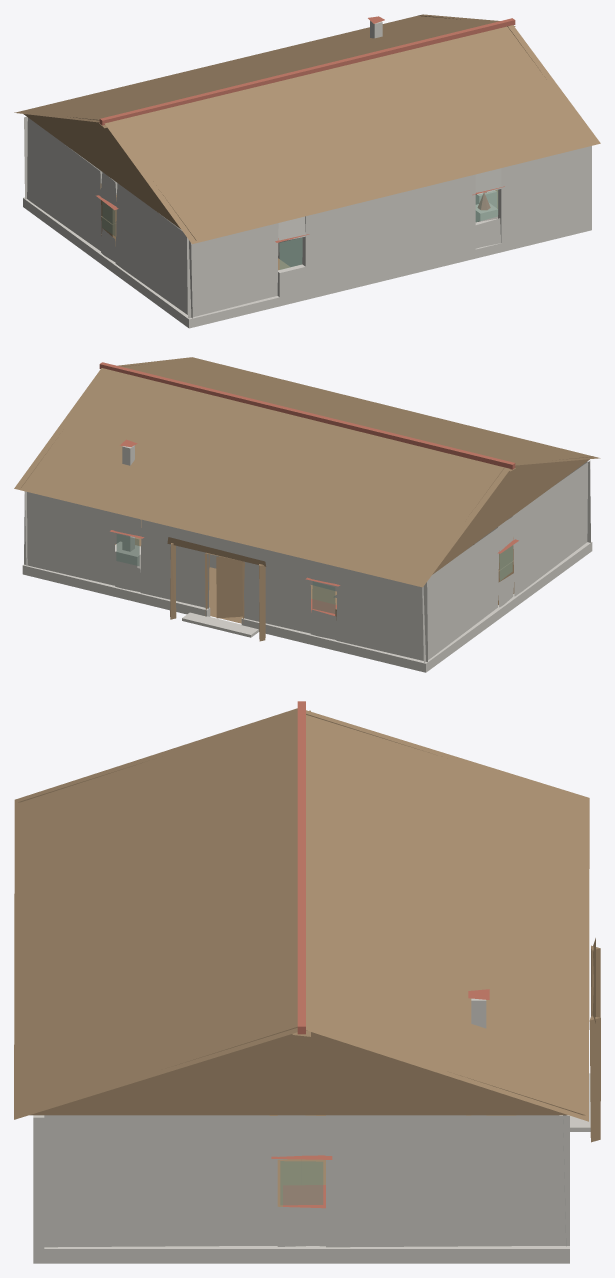
Rendered from hy4_mansion_baja_reexport_20261107.glb.
The picture shows the model from 3 angles, top to bottom: view 1: azimuth 30°, elevation 25°; view 2: azimuth 150°, elevation 25°; view 3: azimuth 270°, elevation 25°; orthographic projection. The views are drawn at different scales.
Visible parts, largest first — view 1: SM_Mansion_M_Mansion_Madera, SM_Mansion_M_Mansion_Piedra, SM_Mansion_M_Mansion_Acento, SM_Mansion_Zocalo_NOFUNDIR, SM_Mansion_M_Mansion_Jade, SM_Mansion_Pedestal_NOFUNDIR; view 2: SM_Mansion_M_Mansion_Madera, SM_Mansion_M_Mansion_Piedra, SM_Mansion_Zocalo_NOFUNDIR, SM_Mansion_M_Mansion_Acento, SM_Mansion_Pedestal_NOFUNDIR, SM_Mansion_M_Mansion_Jade; view 3: SM_Mansion_M_Mansion_Madera, SM_Mansion_M_Mansion_Piedra, SM_Mansion_Zocalo_NOFUNDIR, SM_Mansion_M_Mansion_Acento, SM_Mansion_M_Mansion_Jade, SM_Mansion_Pedestal_NOFUNDIR.
Boxes of the visible parts, x1,y1,x2,y2 form: SM_Mansion_M_Mansion_Madera: (14, 14, 600, 270); SM_Mansion_M_Mansion_Piedra: (24, 116, 591, 318); SM_Mansion_M_Mansion_Acento: (96, 16, 515, 242); SM_Mansion_Zocalo_NOFUNDIR: (23, 197, 501, 328); SM_Mansion_M_Mansion_Jade: (102, 190, 498, 269); SM_Mansion_Pedestal_NOFUNDIR: (370, 21, 497, 222); SM_Mansion_M_Mansion_Madera: (14, 357, 600, 641); SM_Mansion_M_Mansion_Piedra: (24, 460, 590, 662); SM_Mansion_Zocalo_NOFUNDIR: (22, 542, 592, 672); SM_Mansion_M_Mansion_Acento: (99, 362, 518, 615); SM_Mansion_Pedestal_NOFUNDIR: (115, 445, 258, 637); SM_Mansion_M_Mansion_Jade: (116, 534, 513, 613); SM_Mansion_M_Mansion_Madera: (14, 708, 600, 1206); SM_Mansion_M_Mansion_Piedra: (33, 1115, 569, 1263); SM_Mansion_Zocalo_NOFUNDIR: (33, 1115, 569, 1263); SM_Mansion_M_Mansion_Acento: (271, 701, 489, 1208); SM_Mansion_M_Mansion_Jade: (280, 1161, 323, 1205); SM_Mansion_Pedestal_NOFUNDIR: (471, 998, 590, 1131).
Bounding box in the file's own units: 14.34 × 4.95 × 10.94.
